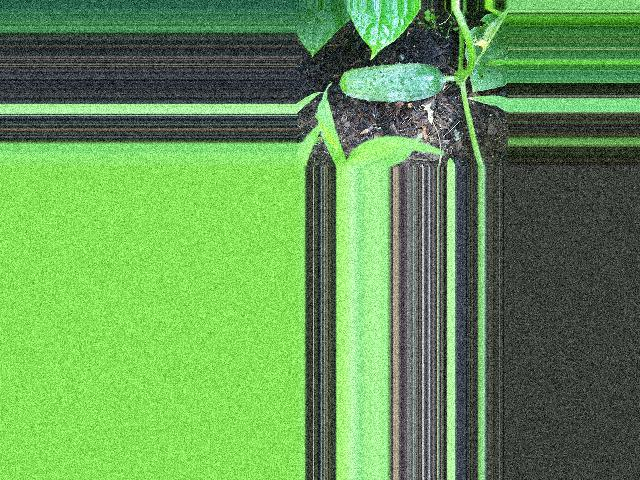cucumber: (338, 63, 444, 102)
